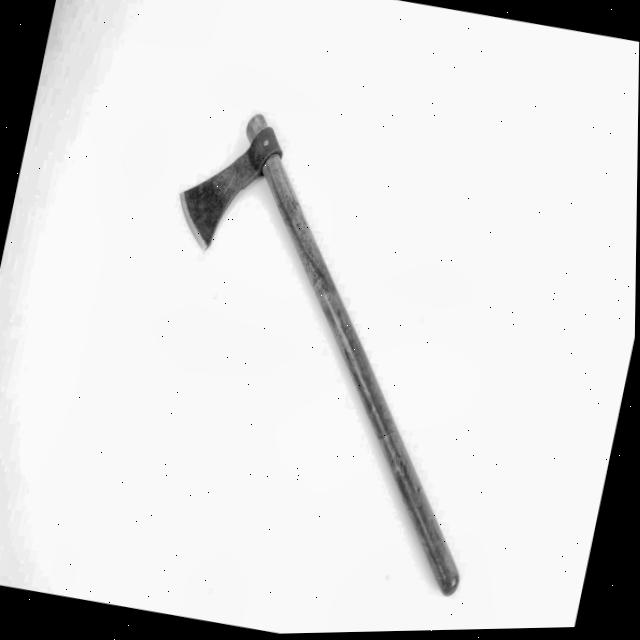kapak: (100, 66, 573, 624)
